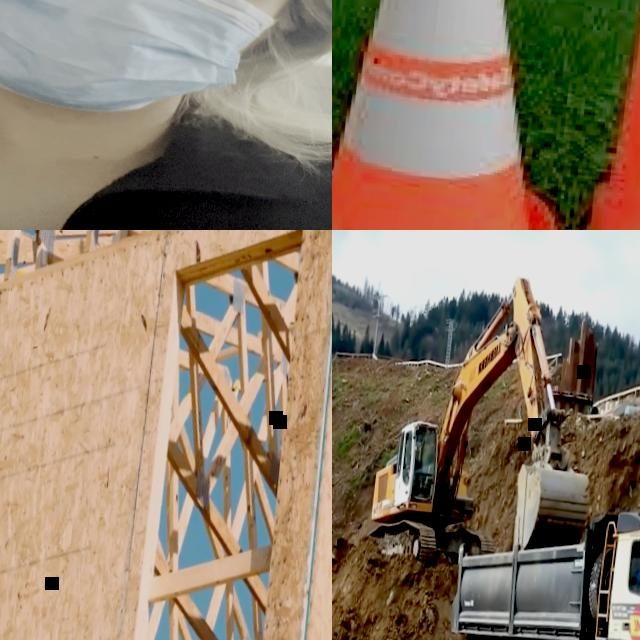Mask: (0, 0, 288, 129)
NO-Safety Vest: (0, 68, 332, 230)
Person: (0, 0, 332, 230), (403, 450, 420, 491)
Safety Cone: (332, 0, 615, 230)
machinery: (365, 262, 613, 581), (435, 479, 640, 640)
